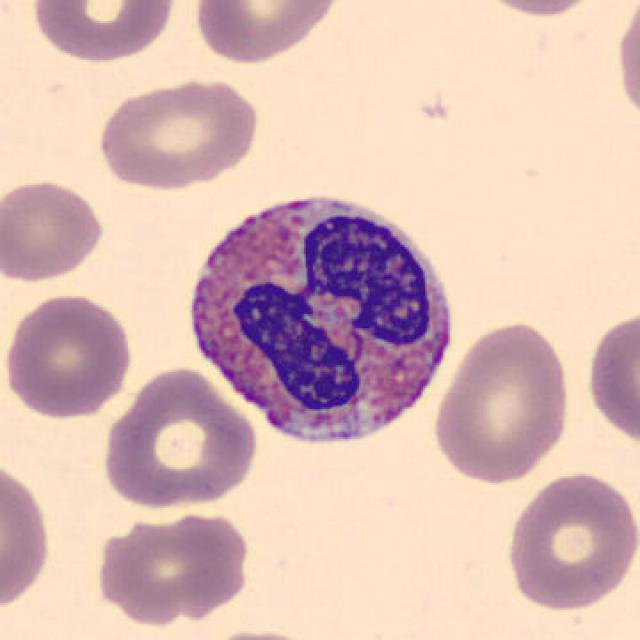Eosinophil: (174, 173, 466, 462)
RBC: (430, 317, 576, 487), (100, 363, 262, 513), (89, 506, 256, 628), (502, 468, 638, 616), (93, 74, 263, 192), (0, 289, 137, 422), (0, 174, 108, 285), (190, 0, 348, 67), (29, 0, 180, 65), (0, 455, 55, 615), (583, 304, 638, 452), (611, 0, 640, 132), (458, 0, 611, 19), (187, 626, 336, 640)
